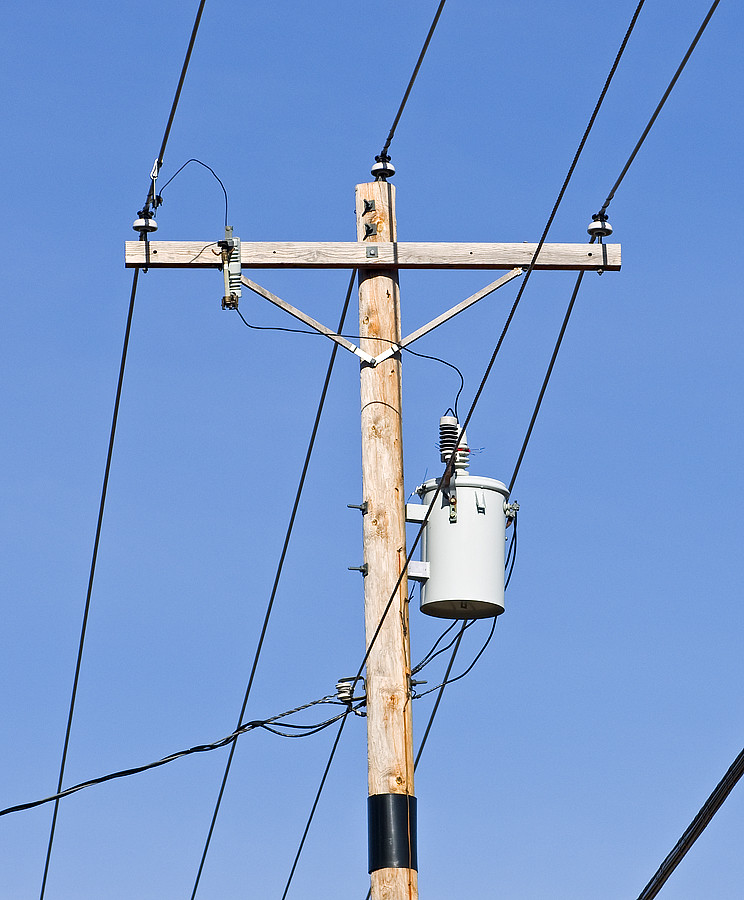utility_pole: (100, 140, 633, 672)
